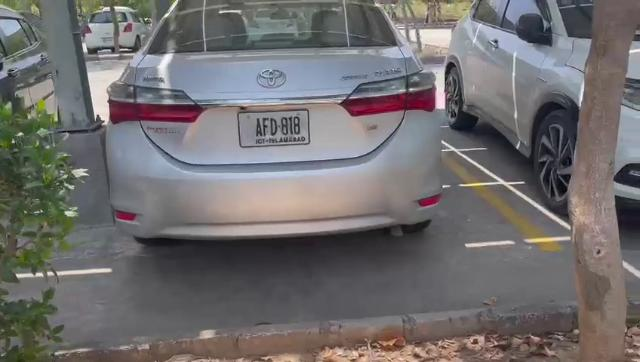plate: (238, 108, 310, 148)
